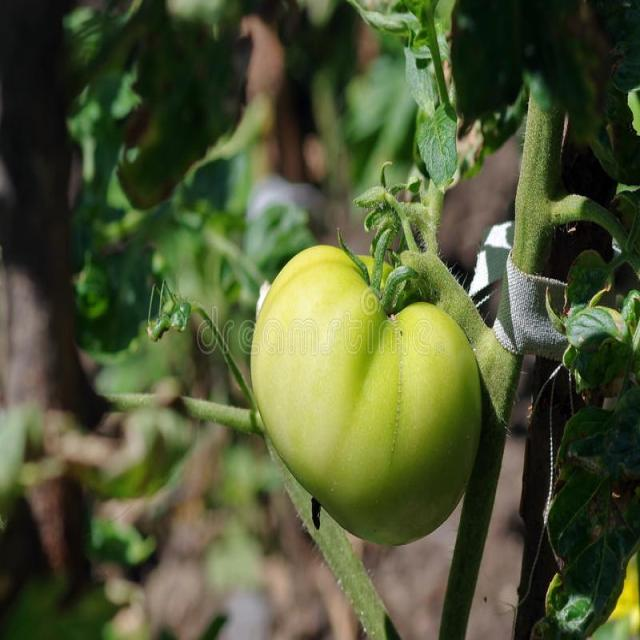yesil: (234, 222, 492, 534)
